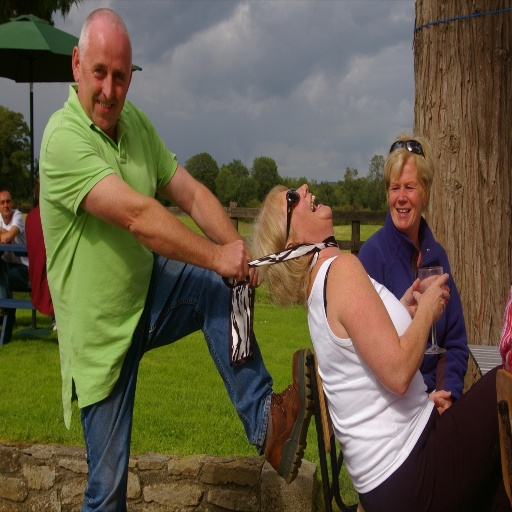hand: (415, 270, 457, 345), (220, 238, 252, 281), (399, 277, 422, 318), (246, 250, 263, 286), (246, 252, 263, 285), (433, 395, 452, 410), (427, 389, 452, 399), (0, 228, 7, 231)
